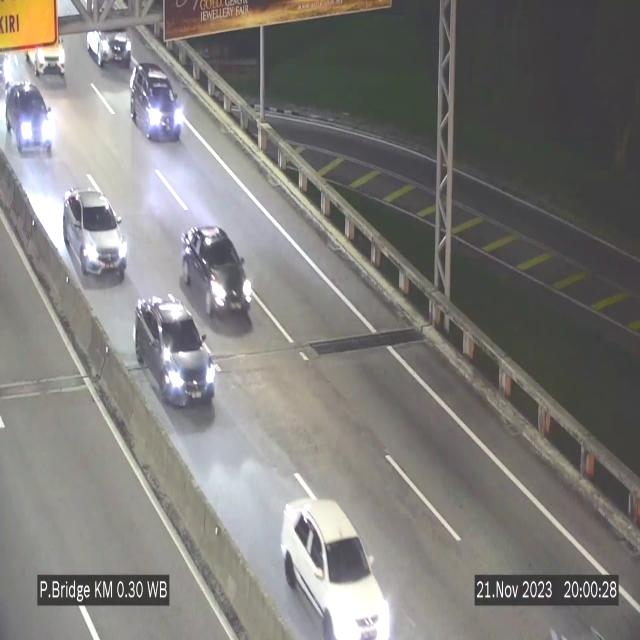Car: (281, 498, 391, 640), (134, 295, 216, 410), (181, 222, 253, 324), (63, 187, 127, 277), (130, 62, 183, 140), (5, 79, 55, 158), (84, 11, 143, 70), (21, 28, 71, 86)
